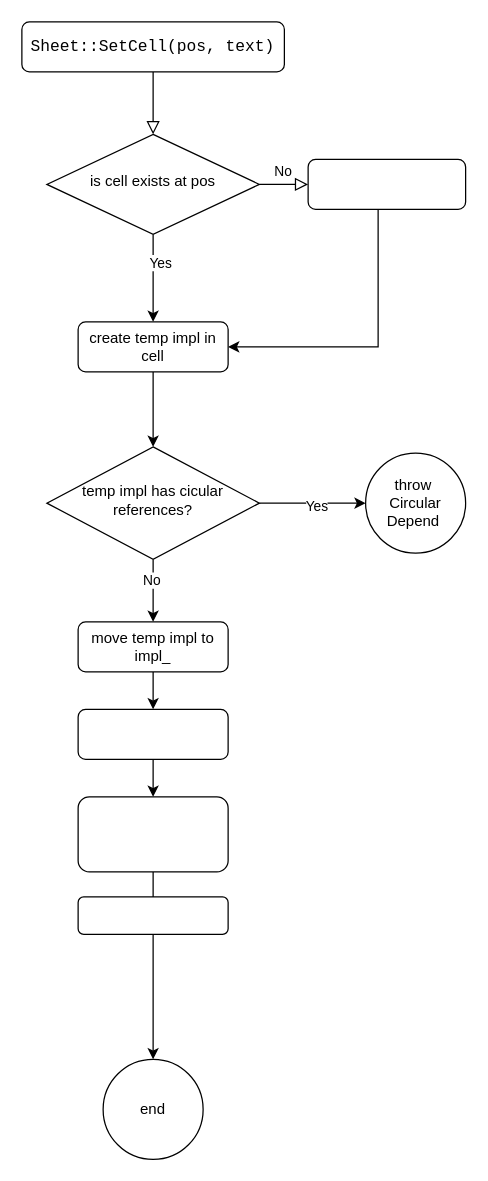
Image size: 488x1181. Some labels were removed from this diagram. Here are the shapes that lost their labels. From the top down, the centre of each, then its label:
At pixel 386 183: "create empty cell".
At pixel 152 733: "clear ref of this cell in each old referenced cells".
At pixel 152 834: "for each referenced position add ref cell and set this cell as depend for ref".
At pixel 152 915: "invalidate cache".
